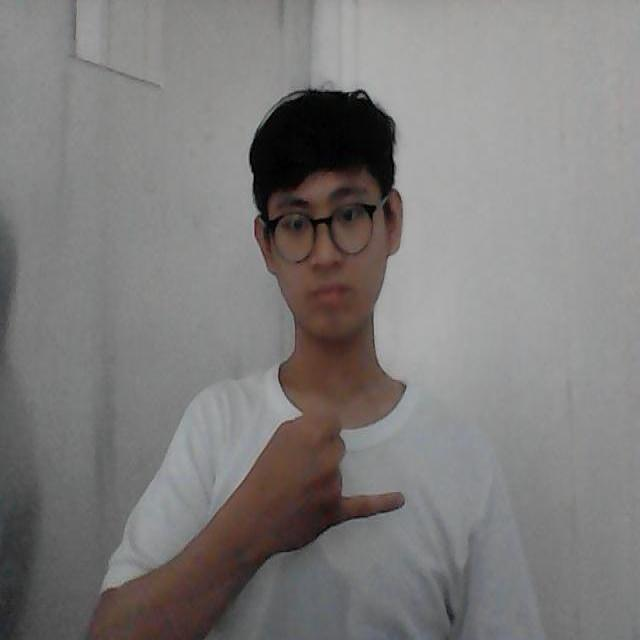J: (240, 404, 410, 556)
